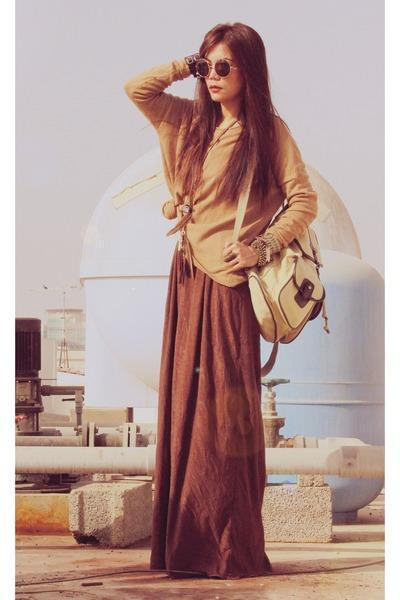bag: (249, 242, 331, 347)
shirt: (124, 57, 317, 286)
skirt: (141, 258, 275, 579)
sunglass: (180, 51, 241, 95)
